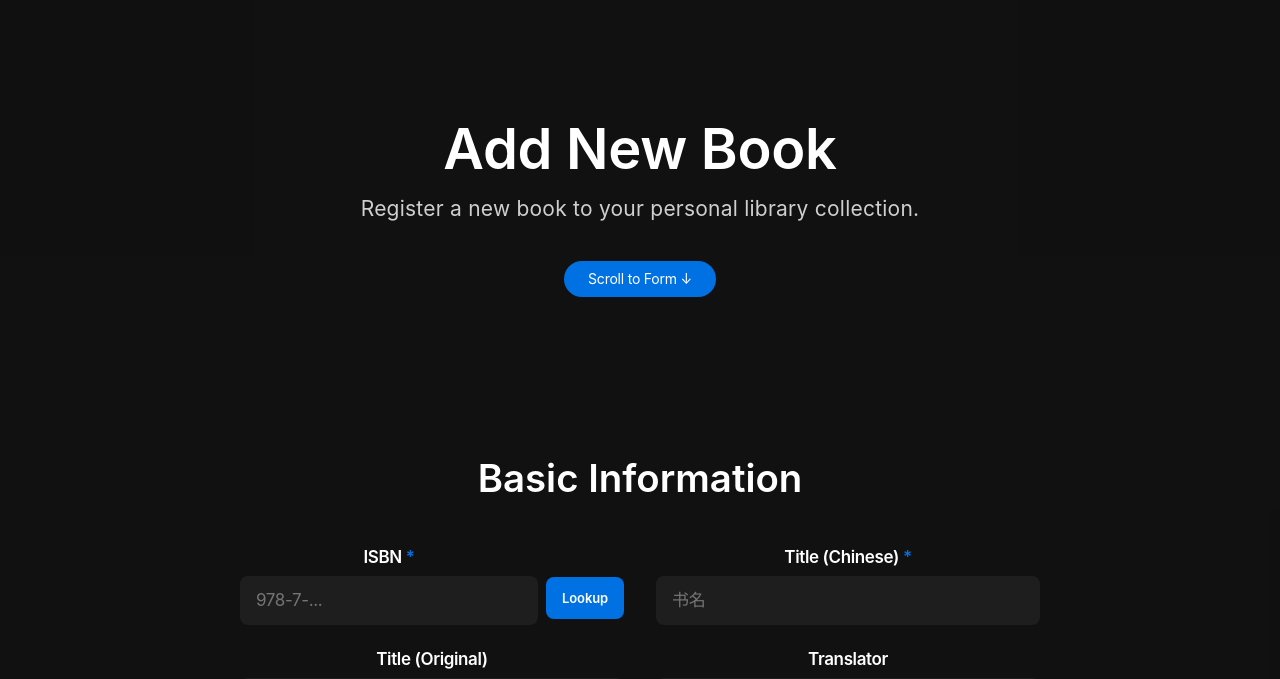
Test: submit › shows success message before navigation
The image size is (1280, 679).
In the field with placeholder "978-7-...": coordinates (389, 601) [240,576,538,625], type "9781234567890"
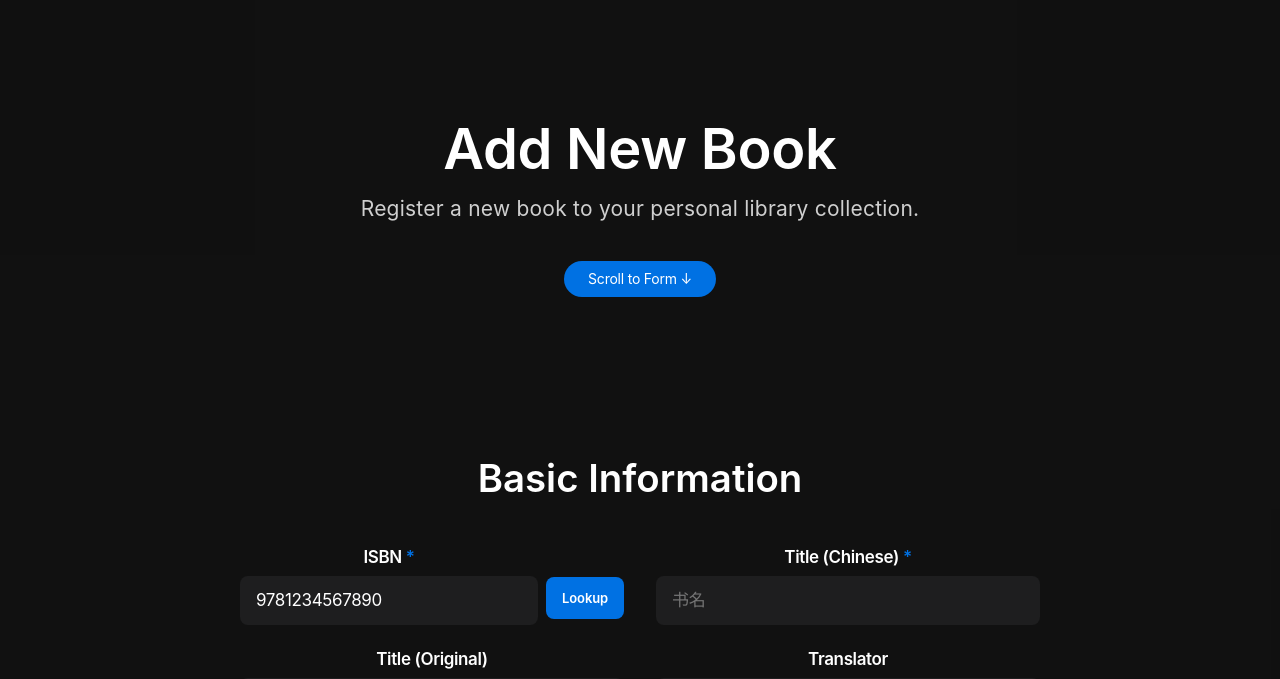
In the field with placeholder "书名": coordinates (848, 601) [656,576,1040,625], type "测试书名"
(page scrolled)
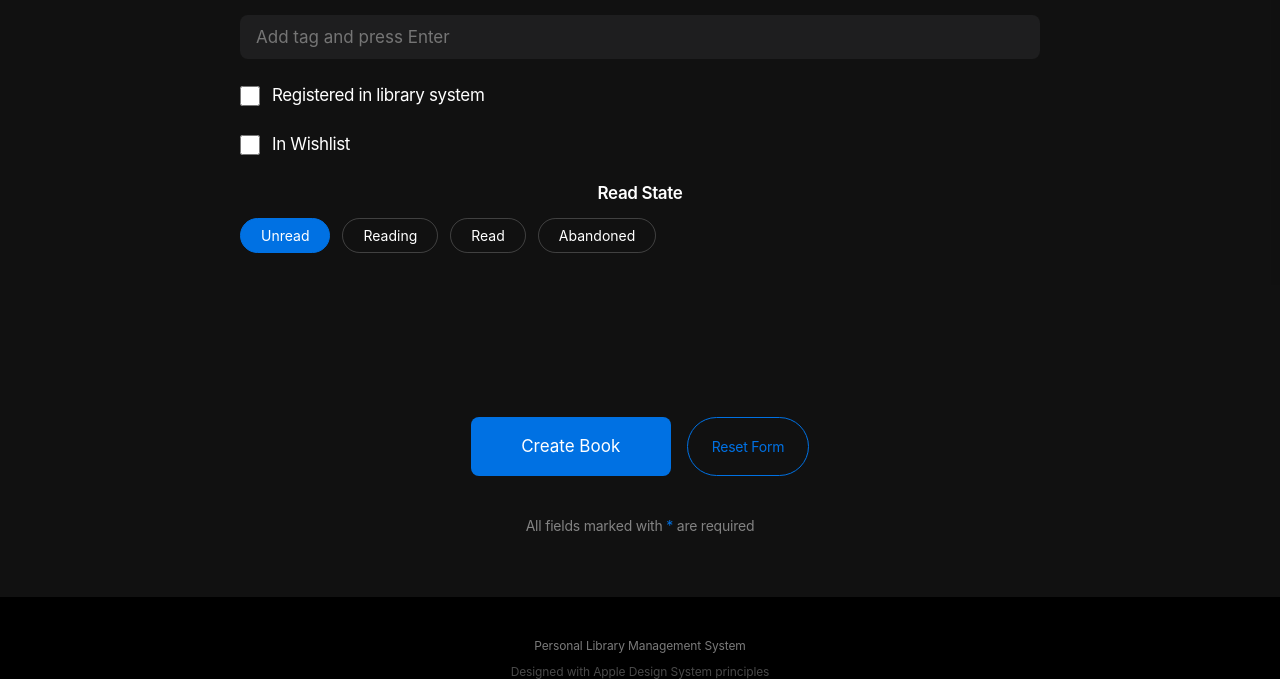
Click the button "Create Book": coordinates (571, 447) [471,417,671,476]
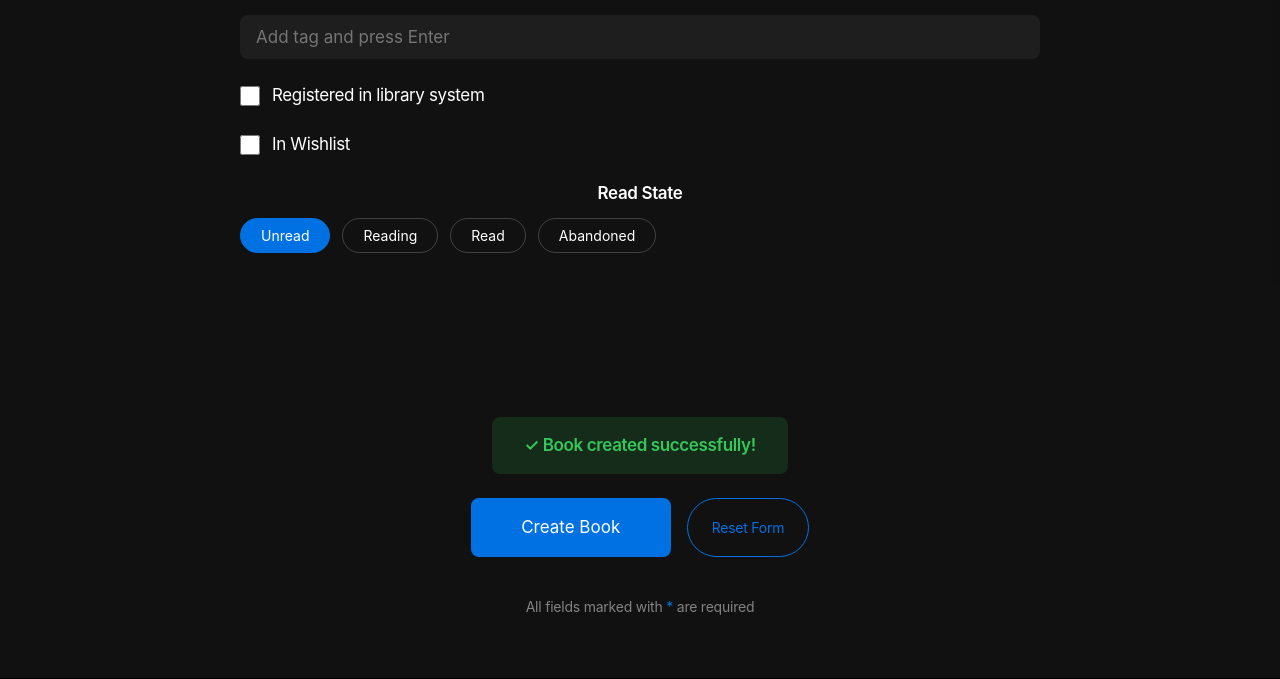
Now the text "✓ Book created successfully!" is shown, box [492,417,788,474]
